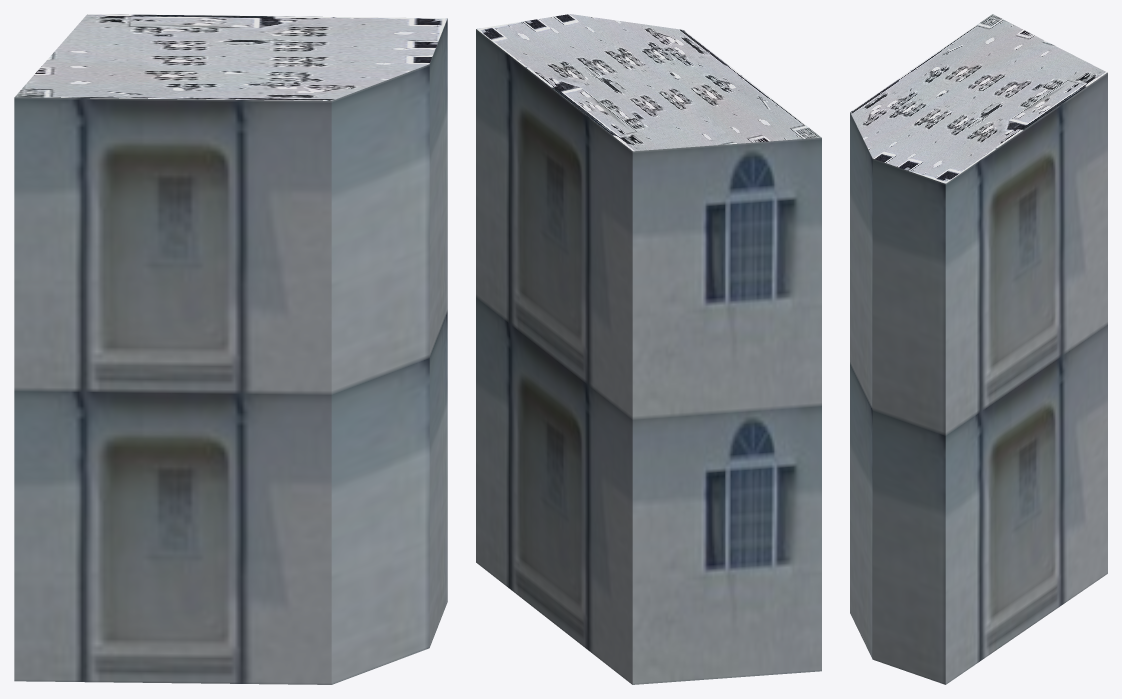
File: ResTex__2833.fbx
3 views of the same model, side by side, from view 1: azimuth 30°, elevation 25°; view 2: azimuth 150°, elevation 25°; view 3: azimuth 270°, elevation 25° (orthographic). The views are drawn at different scales.
Parts seen in each view (by area): view 1: CityEngineMaterial_17_m, CityEngineMaterial_8_m; view 2: CityEngineMaterial_17_m, CityEngineMaterial_8_m; view 3: CityEngineMaterial_17_m, CityEngineMaterial_8_m.
Part boxes in pixels (box(x1,y1,x2,y2)): CityEngineMaterial_17_m: box(14, 18, 447, 684); CityEngineMaterial_8_m: box(15, 14, 447, 100); CityEngineMaterial_17_m: box(476, 29, 821, 684); CityEngineMaterial_8_m: box(476, 14, 821, 151); CityEngineMaterial_17_m: box(850, 73, 1107, 684); CityEngineMaterial_8_m: box(850, 14, 1107, 183).
Bounding box in the file's own units: 4.36 × 6 × 2.8.
Materials: 2 (2 with a texture image).
